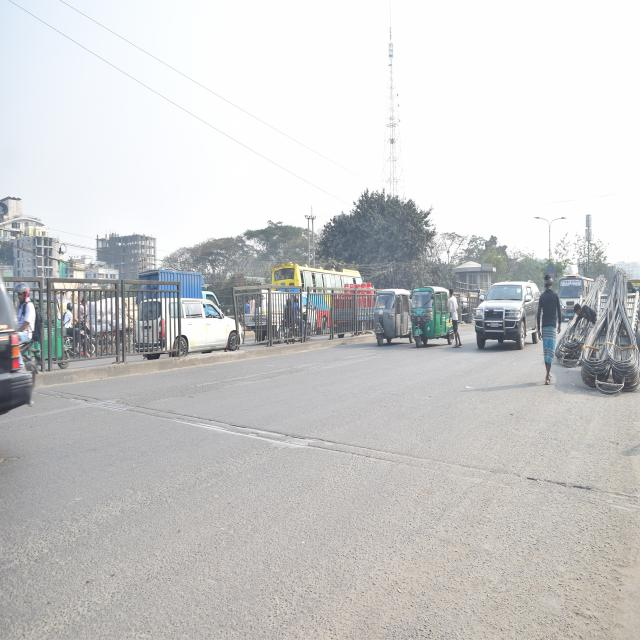bus: (274, 258, 362, 298), (554, 269, 586, 327)
car: (135, 290, 239, 356), (466, 274, 539, 352)
